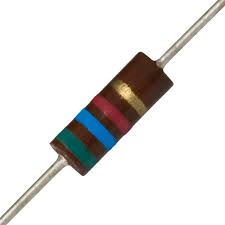resistor: (45, 39, 187, 183)
